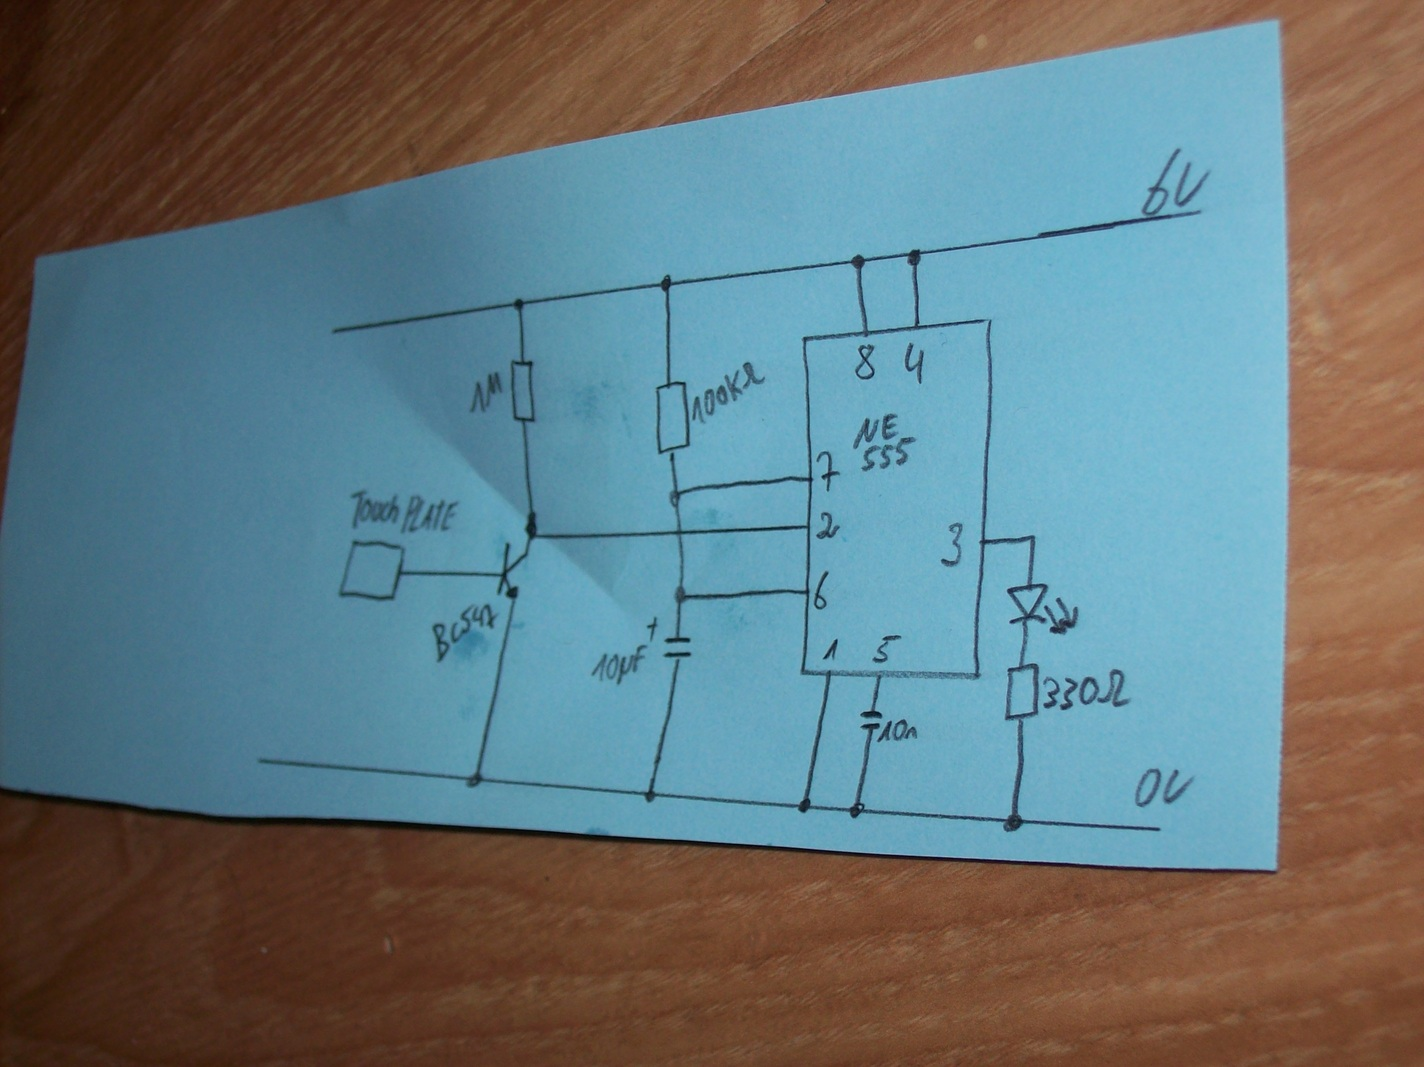capacitor.polarized: (646, 615, 695, 664)
capacitor.unpolarized: (858, 708, 884, 731)
crossover: (670, 525, 688, 540)
diode.light_emitting: (1005, 582, 1080, 637)
integrated_cricuit.ne555: (797, 313, 997, 683)
junction: (522, 511, 545, 540), (1002, 811, 1026, 834), (463, 771, 485, 791), (671, 583, 691, 605), (905, 247, 924, 267), (667, 488, 685, 508), (847, 802, 866, 820), (797, 796, 813, 816), (849, 253, 868, 270), (658, 273, 674, 293), (643, 788, 657, 805), (1025, 531, 1040, 545), (511, 297, 525, 310)
resistor: (653, 378, 694, 457), (1002, 661, 1043, 723), (508, 356, 538, 425)
terminal: (336, 539, 407, 604), (325, 322, 346, 338), (252, 752, 272, 769), (1151, 823, 1169, 837), (1191, 205, 1207, 220)
text: (1139, 146, 1212, 217), (350, 490, 460, 536), (690, 361, 767, 424), (1042, 667, 1132, 712), (430, 603, 497, 662), (851, 411, 918, 471), (1133, 766, 1197, 808), (589, 643, 650, 687), (468, 371, 505, 415), (939, 521, 966, 568), (816, 449, 843, 493), (876, 718, 920, 744), (903, 341, 925, 386), (872, 633, 903, 664), (854, 343, 878, 381), (815, 511, 841, 541), (813, 570, 832, 611), (822, 638, 839, 664)
transistor: (495, 541, 532, 601)
